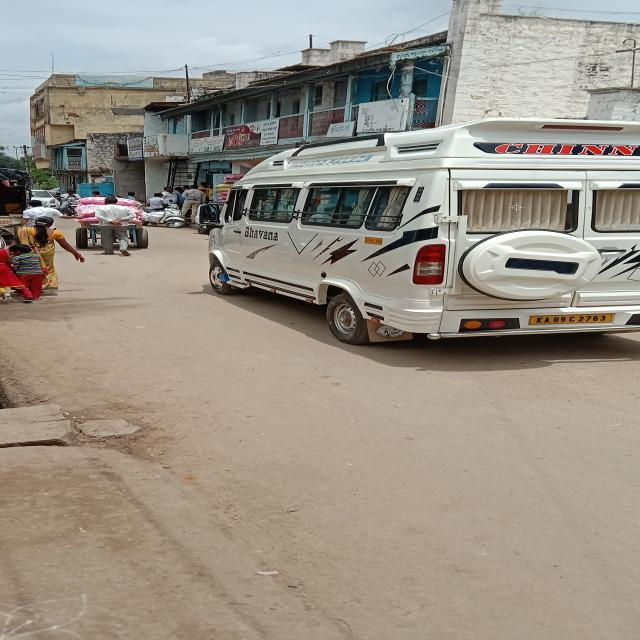plate: (526, 311, 615, 326)
